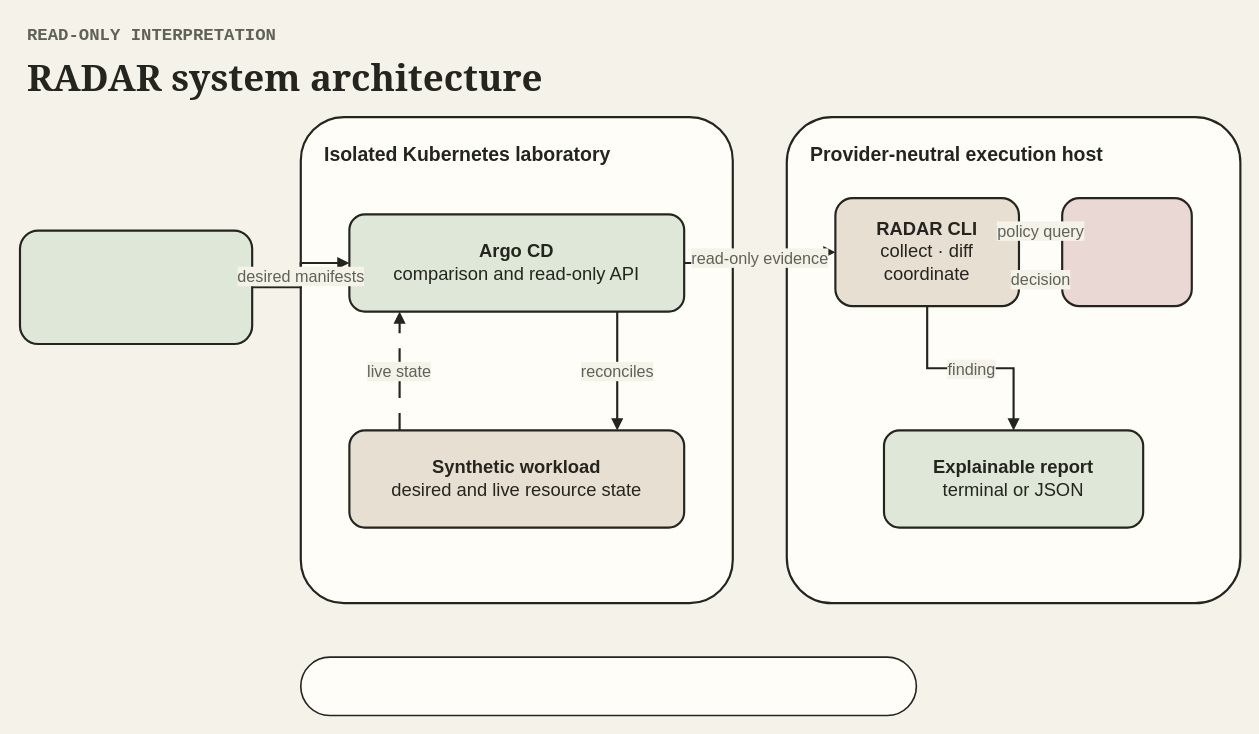
Some shapes in this 1259 by 734 pixel diagram are drawn without their labels. Here are the shapes that lost their labels. From the top down, the box of each, then its label:
(1061, 197, 1192, 307): OPA Rego policy
(18, 229, 253, 345): Git repository source, policy and desired manifests
(299, 656, 917, 716): Argo CD reconciles. RADAR reads evidence and never writes to Kubernetes.
